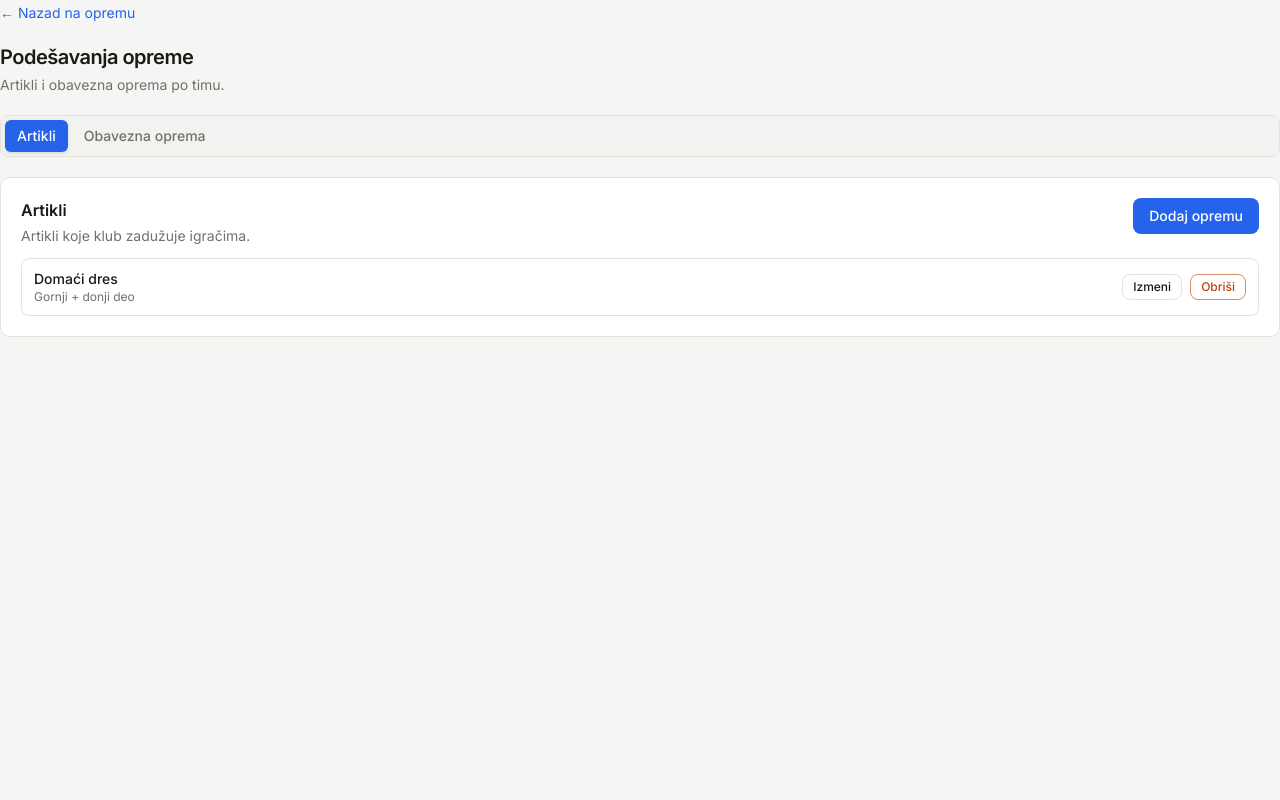
Test: Equipment settings tabs › lets article creation choose the size mode and numbering
This screenshot has width=1280, height=800.
Click the button "Dodaj opremu" at [1196, 216], box [1133,198,1259,234]
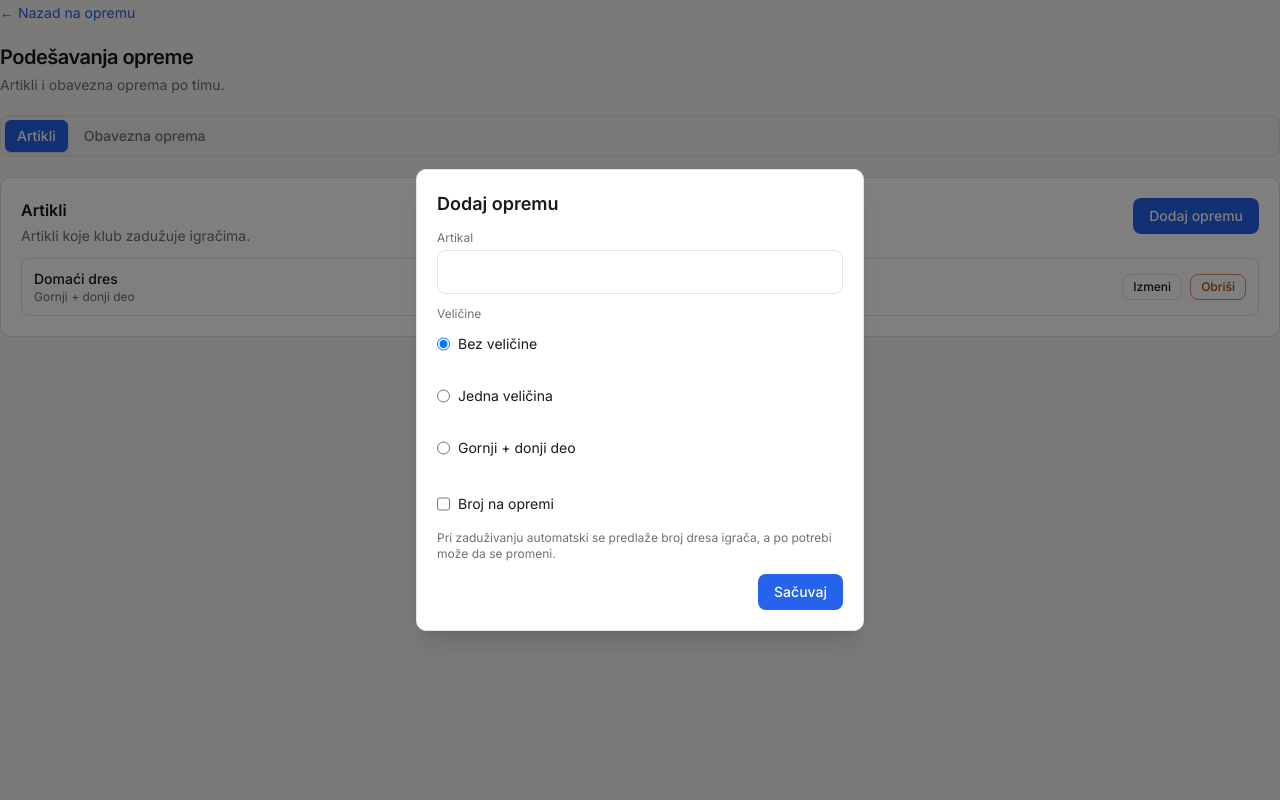
Check: the radio button labelled "Bez veličine" is checked, box [437,322,450,366]
Check: the radio button labelled "Jedna veličina" is shown, box [437,374,450,418]
Check: the radio button labelled "Gornji + donji deo" is shown, box [437,426,450,470]
